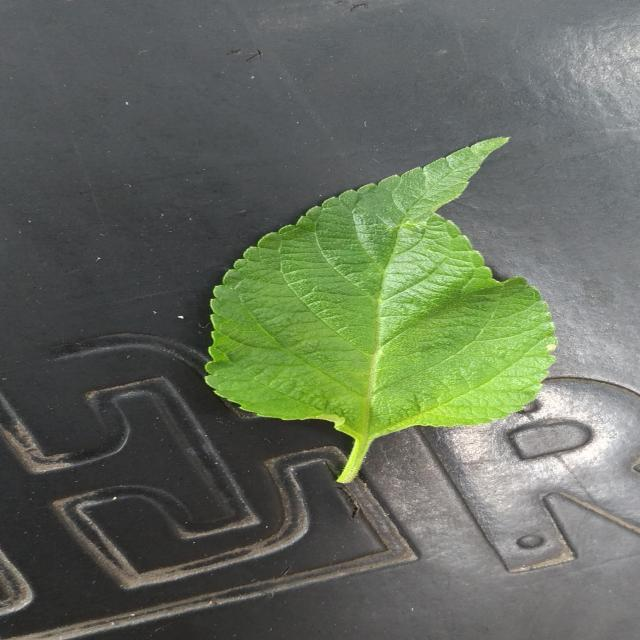Lantana: (209, 138, 556, 482)
